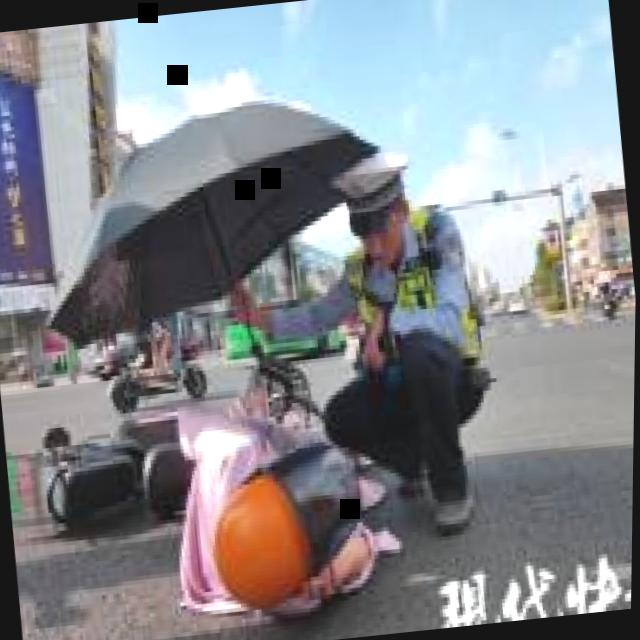Fall-Detected: (129, 378, 410, 639)
